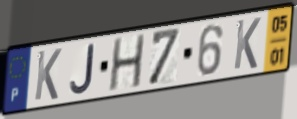6: (197, 22, 225, 78)
7: (150, 27, 182, 89)
H: (106, 32, 147, 94)
J: (68, 42, 96, 96)
K: (32, 46, 63, 103), (232, 16, 263, 72)
